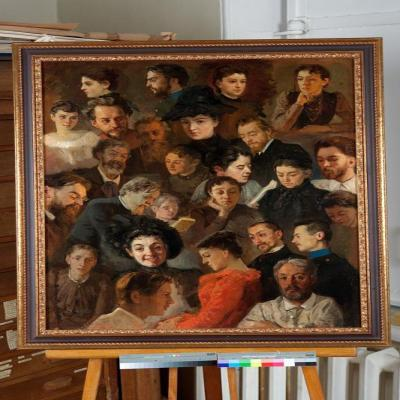painting: (16, 42, 381, 348)
